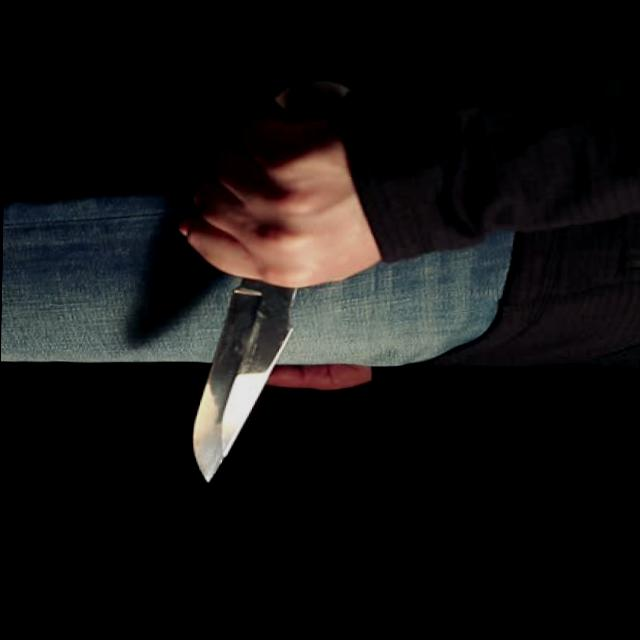knife: (160, 208, 334, 506)
